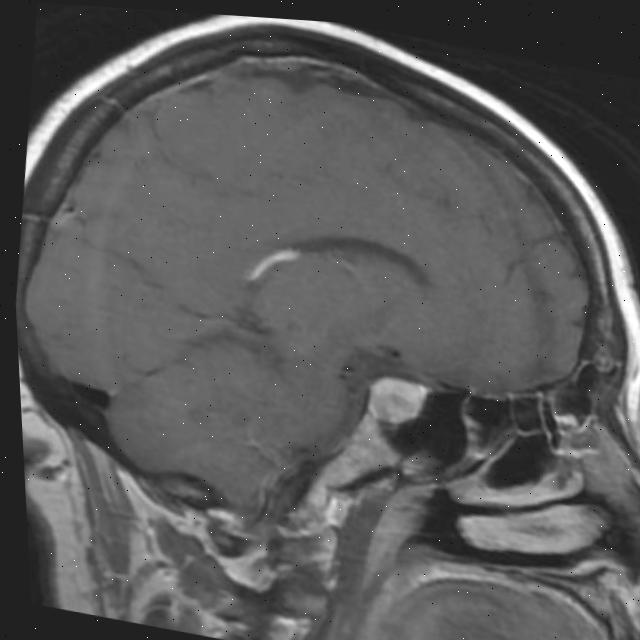Pituitary: (364, 371, 434, 430)
